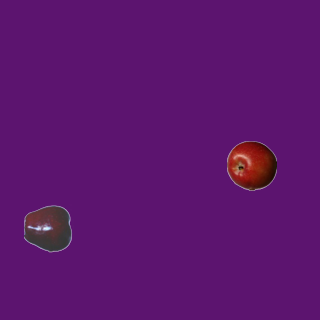Apple Braeburn: (226, 140, 276, 190)
Apple Red Delicious: (23, 203, 73, 253)
